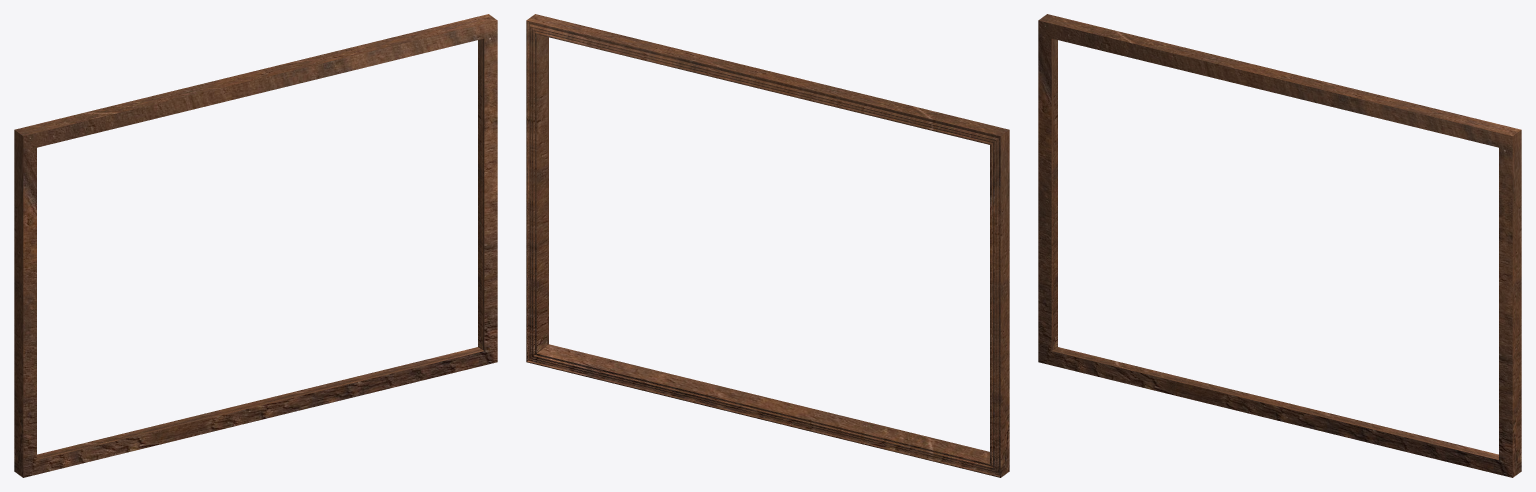
File: frame1.glb
3 views of the same model, side by side, from view 1: azimuth 30°, elevation 25°; view 2: azimuth 150°, elevation 25°; view 3: azimuth 330°, elevation 25° (orthographic).
Visible parts, largest first — view 1: Frame1; view 2: Frame1; view 3: Frame1.
Boxes of the visible parts, box(x1,y1,x2,y2) form: Frame1: box(14, 14, 497, 477); Frame1: box(526, 14, 1009, 477); Frame1: box(1038, 14, 1521, 477).
Size of the model in its own units: 5.99 by 4.12 by 0.2026.
Materials: 1 (1 with a texture image).
